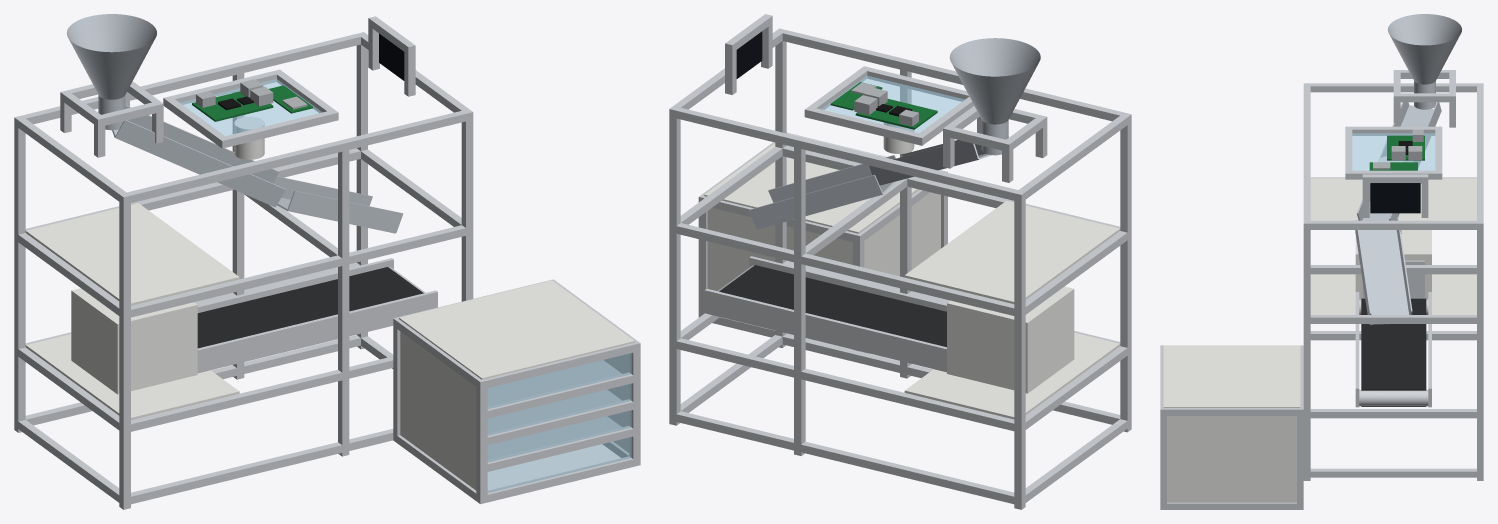
The model's file is lycodry-machine.glb.
3 views of the same model, side by side, from view 1: azimuth 30°, elevation 25°; view 2: azimuth 150°, elevation 25°; view 3: azimuth 270°, elevation 25° (orthographic). The views are drawn at different scales.
Parts seen in each view (by area): view 1: Rail (×14), Leg (×6), Chamber top, Chamber door, Upper shelf, Chamber side (×2), Cutter housing, Conveyor rail (×2), Belt, Drying tray (×3), Tray rail (×3), Chamber frame (×4) (+12 smaller); view 2: Rail (×16), Leg (×6), Upper shelf, Cutter housing, Conveyor rail (×2), Belt, Funnel, Cutting shelf, Tray frame (×4), Chamber back, Lower ramp wall (×2), Chamber top (+11 smaller); view 3: Chamber side, Rail (×8), Chamber top, Belt, Upper shelf, Leg (×2), Cutting shelf, Funnel, Lower ramp floor, Tray frame (×4), Chamber frame (×2), Tray base (+13 smaller).
Boxes of the visible parts, bbox=[...] form: Rail (×14): bbox=[14, 32, 473, 505]; Leg (×6): bbox=[14, 32, 473, 509]; Chamber top: bbox=[399, 280, 634, 379]; Chamber door: bbox=[487, 353, 631, 492]; Upper shelf: bbox=[25, 203, 239, 305]; Chamber side (×2): bbox=[400, 331, 629, 490]; Cutter housing: bbox=[71, 288, 197, 394]; Conveyor rail (×2): bbox=[197, 258, 437, 373]; Belt: bbox=[197, 267, 423, 348]; Drying tray (×3): bbox=[487, 360, 621, 459]; Tray rail (×3): bbox=[484, 372, 636, 472]; Chamber frame (×4): bbox=[393, 318, 640, 503]; Rail (×16): bbox=[669, 29, 1131, 504]; Leg (×6): bbox=[669, 28, 1131, 509]; Upper shelf: bbox=[904, 201, 1120, 303]; Cutter housing: bbox=[947, 286, 1074, 393]; Conveyor rail (×2): bbox=[704, 256, 946, 372]; Belt: bbox=[719, 265, 946, 347]; Funnel: bbox=[949, 38, 1040, 124]; Cutting shelf: bbox=[904, 332, 1120, 419]; Tray frame (×4): bbox=[804, 66, 974, 145]; Chamber back: bbox=[707, 208, 852, 290]; Lower ramp wall (×2): bbox=[748, 155, 896, 228]; Chamber top: bbox=[704, 133, 941, 233]; Chamber side: bbox=[1167, 416, 1296, 502]; Rail (×8): bbox=[1303, 83, 1483, 477]; Chamber top: bbox=[1163, 345, 1300, 407]; Belt: bbox=[1361, 298, 1426, 390]; Upper shelf: bbox=[1310, 178, 1476, 220]; Leg (×2): bbox=[1303, 221, 1483, 480]; Cutting shelf: bbox=[1310, 274, 1476, 314]; Funnel: bbox=[1387, 14, 1461, 84]; Lower ramp floor: bbox=[1359, 230, 1409, 325]; Tray frame (×4): bbox=[1345, 126, 1442, 179]; Chamber frame (×2): bbox=[1160, 407, 1303, 509]; Tray base: bbox=[1352, 133, 1435, 170].
Size of the model in its own units: 1.5 by 1.36 by 1.19.
